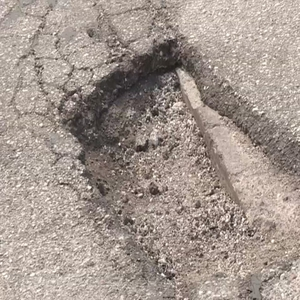pothole: (63, 30, 299, 293)
